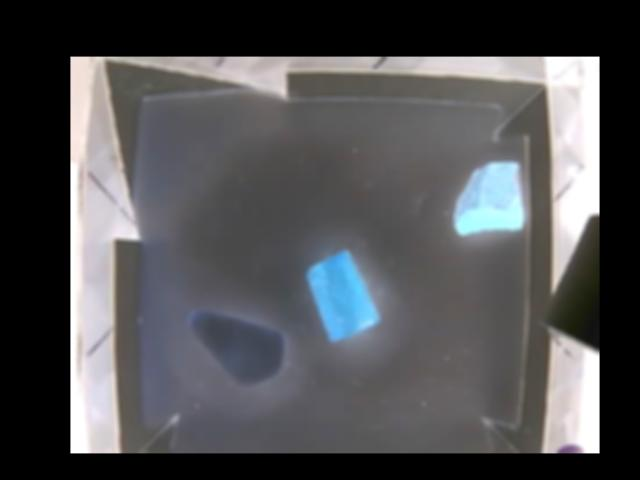Brisk: (451, 162, 521, 235)
Carrot: (307, 249, 377, 344)
Mooli: (186, 310, 288, 389)
